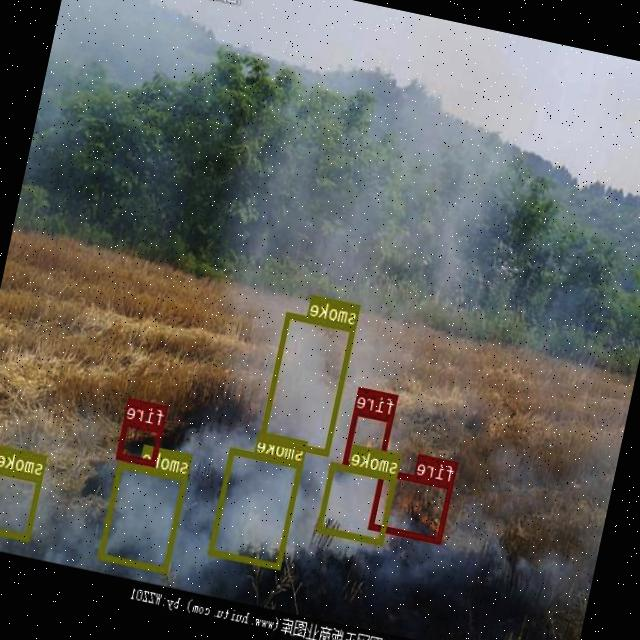fire: (370, 467, 454, 542), (344, 408, 394, 473), (116, 418, 164, 466)
smoke: (260, 310, 358, 454), (208, 446, 304, 570), (99, 461, 188, 572), (318, 462, 398, 544), (0, 465, 43, 540)
